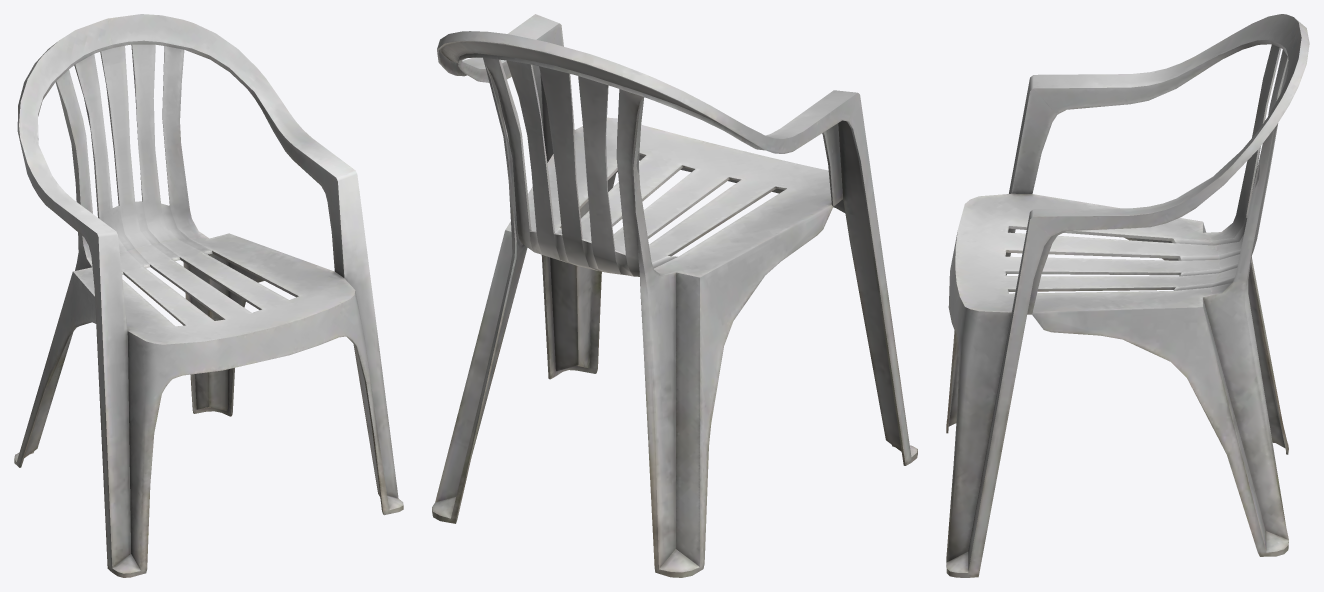
Rendered from plastic_monobloc_chair_01.glb.
3 views of the same model, side by side, from view 1: azimuth 30°, elevation 25°; view 2: azimuth 150°, elevation 25°; view 3: azimuth 270°, elevation 25° (orthographic). The views are drawn at different scales.
Visible parts, largest first — view 1: plastic_monobloc_chair_01; view 2: plastic_monobloc_chair_01; view 3: plastic_monobloc_chair_01.
Part boxes in pixels (x1,y1,x2,y2): plastic_monobloc_chair_01: (14, 14, 403, 577); plastic_monobloc_chair_01: (432, 14, 917, 577); plastic_monobloc_chair_01: (946, 14, 1309, 577).
Bounding box in the file's own units: 0.6419 × 0.8798 × 0.6276.
1 material, 1 textured.
